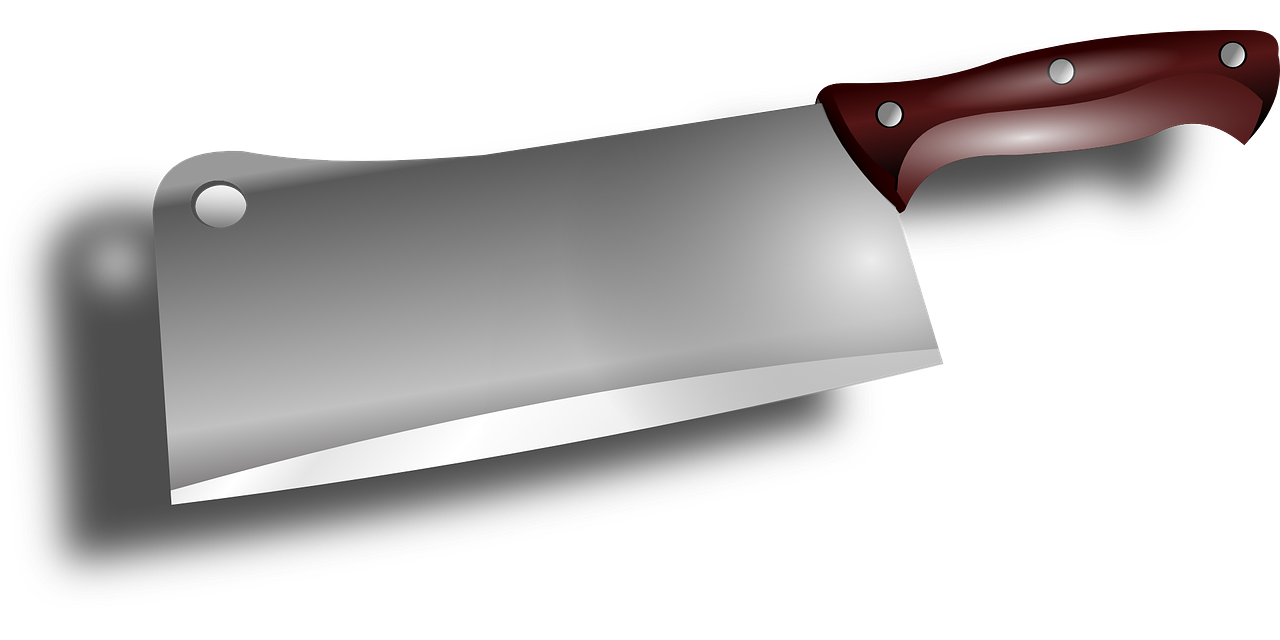knife: (142, 28, 1280, 513)
